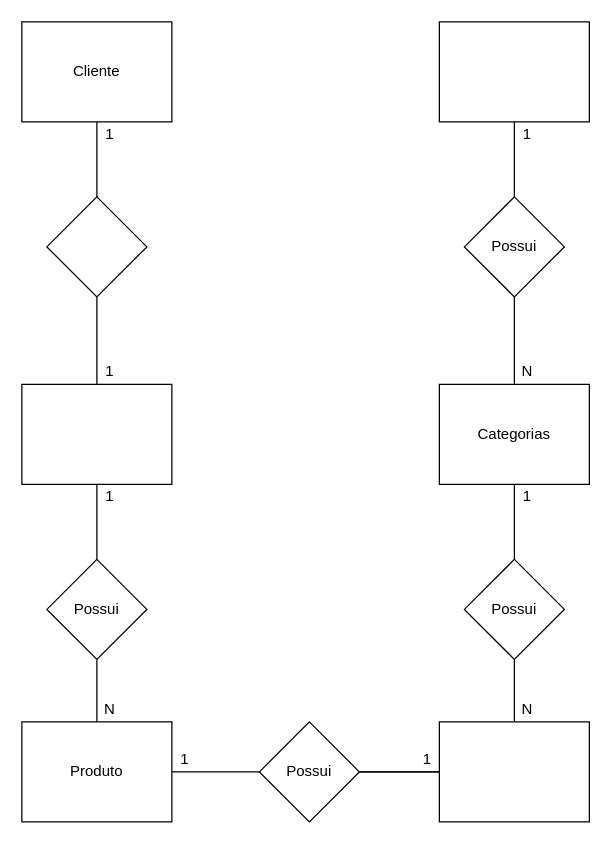
The diagram is 611 pixels wide and 844 high, and some of its shapes have lost their labels. The shapes that lost their labels are listed below. From the top down, each one's centre as x and y in pixels, then its label:
At pixel 513 71: "Loja".
At pixel 96 246: "Efetua".
At pixel 96 433: "Pedido".
At pixel 513 771: "Subcategorias".
